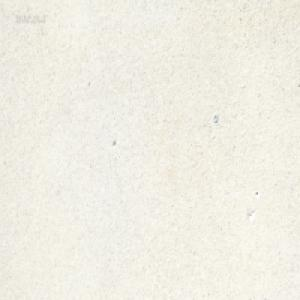Washer: (212, 113, 218, 123)
